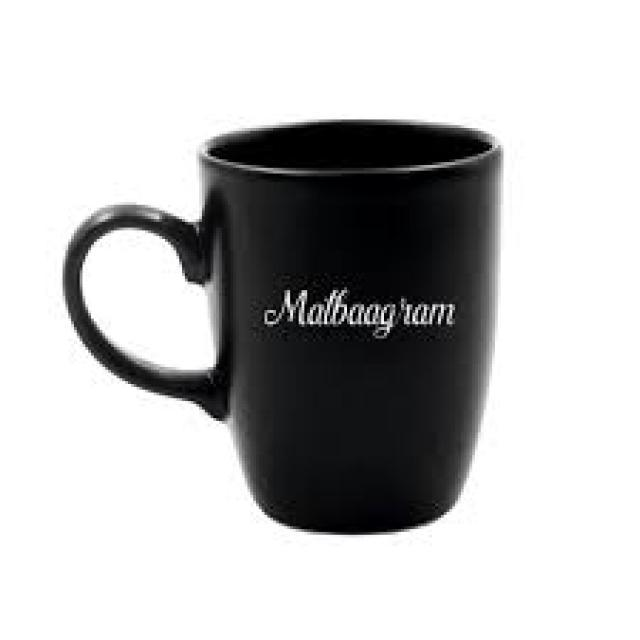taza: (61, 119, 503, 534)
